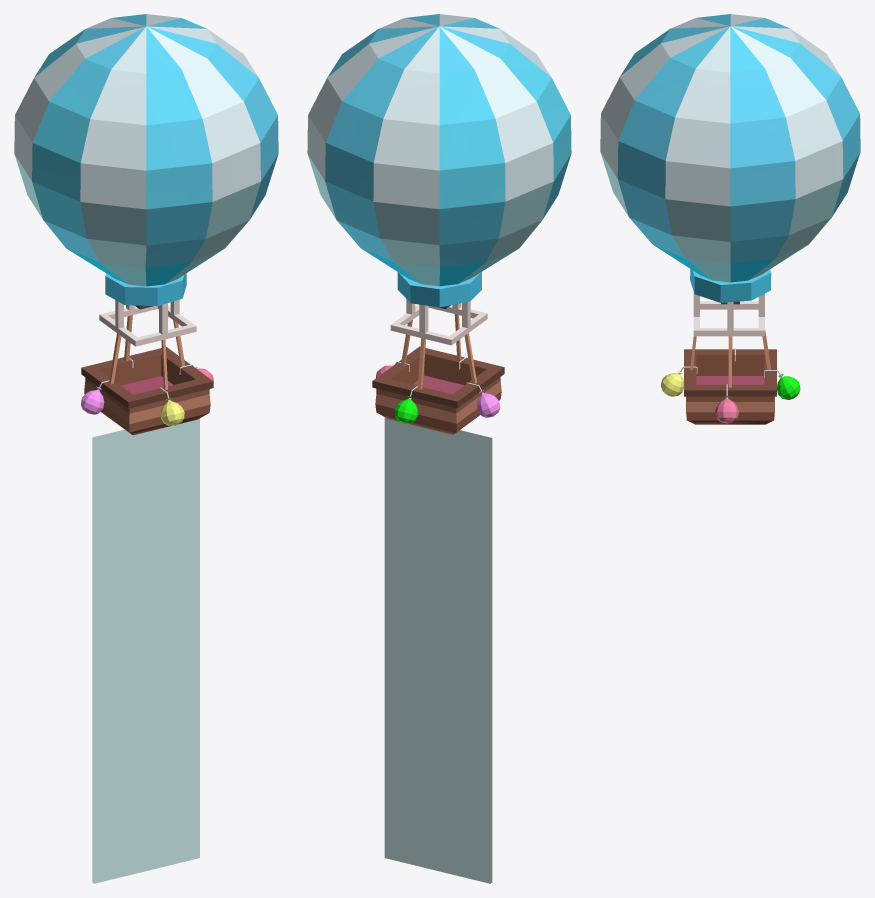
Rendered from bg_balloon_002.fbx.
3 renders of one model, left to right at view 1: azimuth 30°, elevation 25°; view 2: azimuth 150°, elevation 25°; view 3: azimuth 270°, elevation 25°, orthographic.
Parts seen in each view (by area): view 1: balloon, curtain; view 2: balloon, curtain; view 3: balloon.
Part boxes in pixels (x1=…): balloon: x1=14, y1=14, x2=278, y2=435; curtain: x1=92, y1=418, x2=199, y2=883; balloon: x1=307, y1=14, x2=571, y2=434; curtain: x1=384, y1=417, x2=492, y2=883; balloon: x1=600, y1=14, x2=860, y2=424.
Size of the model in its own units: 644 by 2269 by 644.
